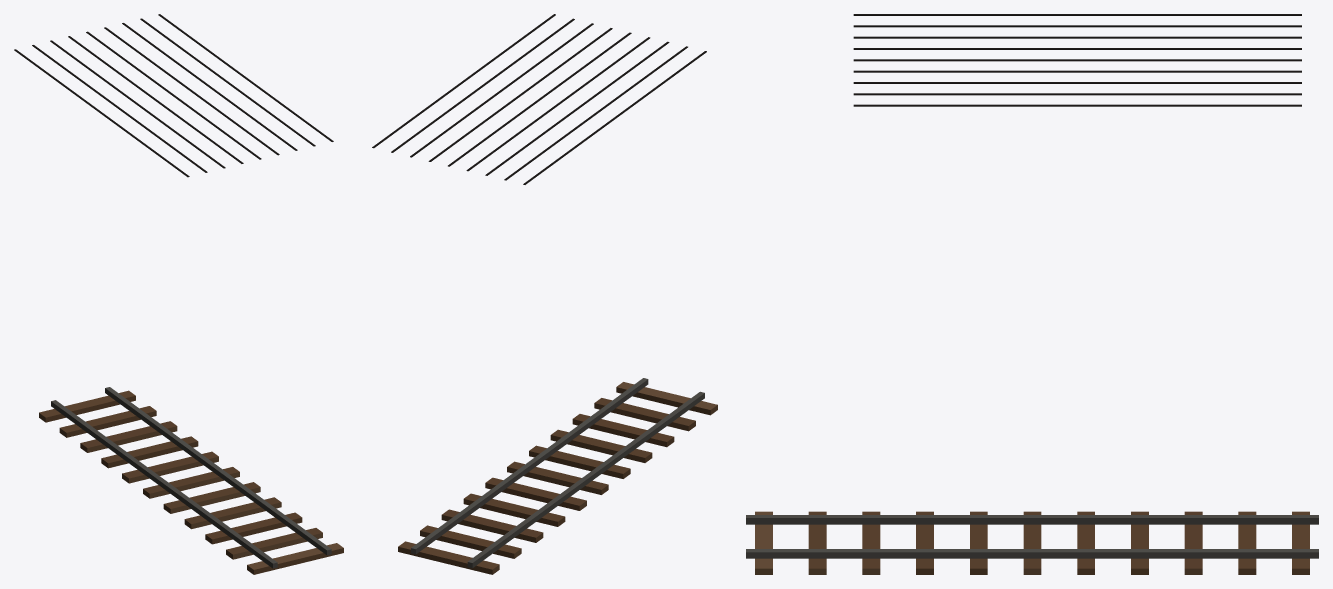
The model's file is timber_portal_detail1.glb.
3 views of the same model, side by side, from view 1: azimuth 30°, elevation 25°; view 2: azimuth 150°, elevation 25°; view 3: azimuth 270°, elevation 25° (orthographic). The views are drawn at different scales.
Parts seen in each view (by area): view 1: timber_portal_detail1; view 2: timber_portal_detail1; view 3: timber_portal_detail1.
Part boxes in pixels (x1,y1,x2,y2): timber_portal_detail1: (14, 14, 343, 574); timber_portal_detail1: (372, 14, 717, 574); timber_portal_detail1: (746, 14, 1318, 574).
Size of the model in its own units: 2.43 by 6 by 6.4.
